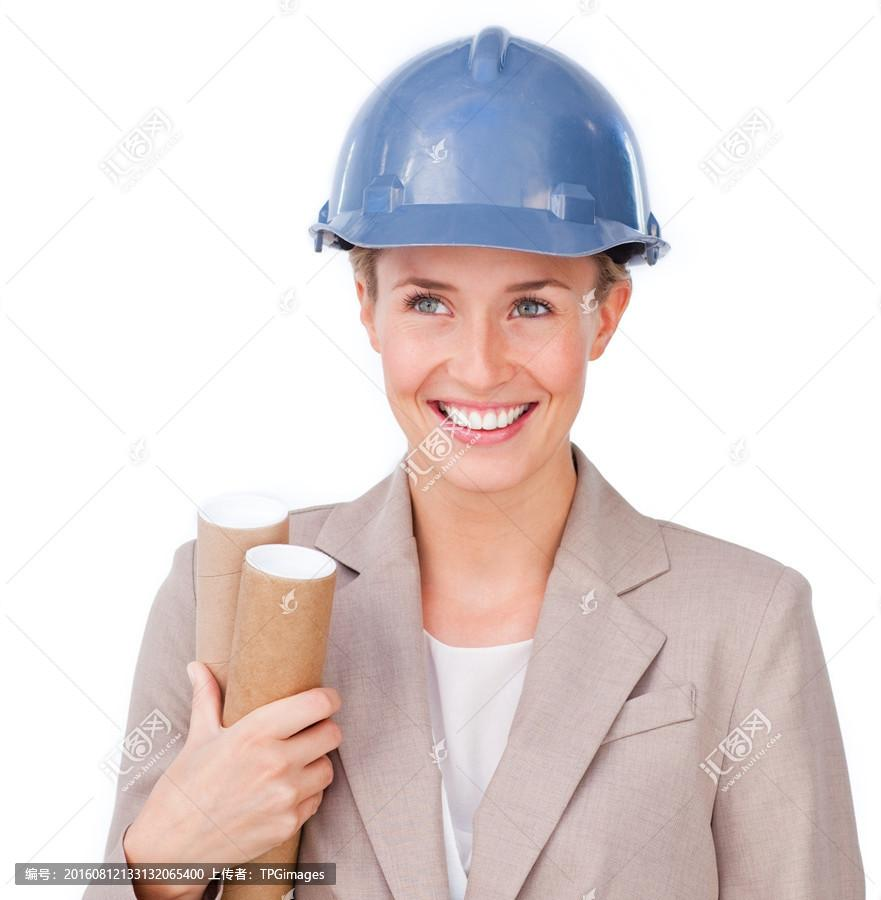helmet: (313, 28, 674, 264)
